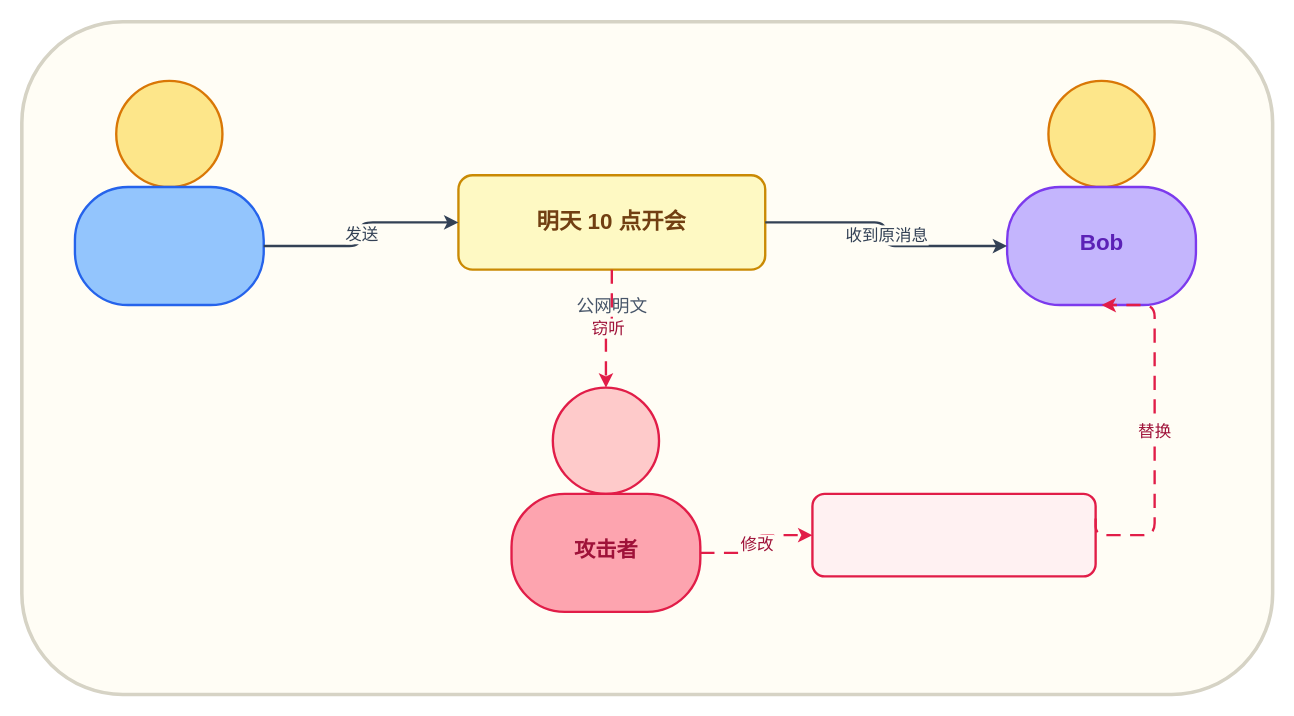
The diagram is 1294 pixels wide and 716 high, and some of its shapes have lost their labels. Each missing label, with the centre of its shape:
"Alice" belongs at point (168, 245).
"明天 11 点开会" belongs at point (953, 534).
